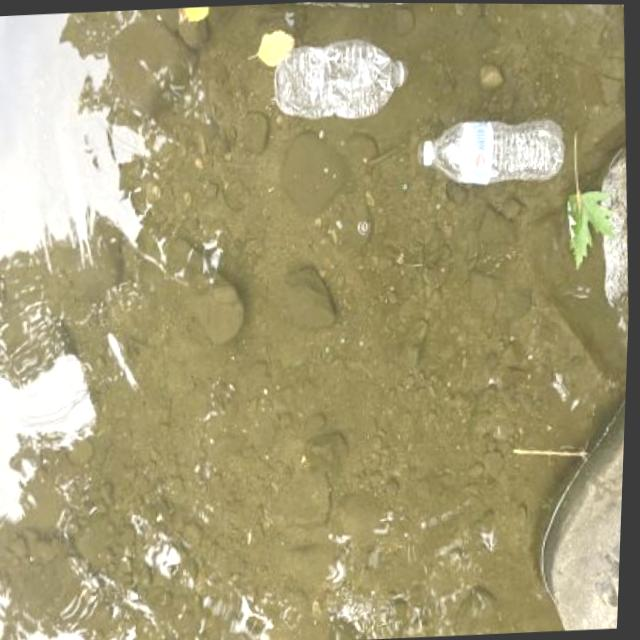Plastic: (413, 104, 575, 199), (262, 32, 415, 128)
